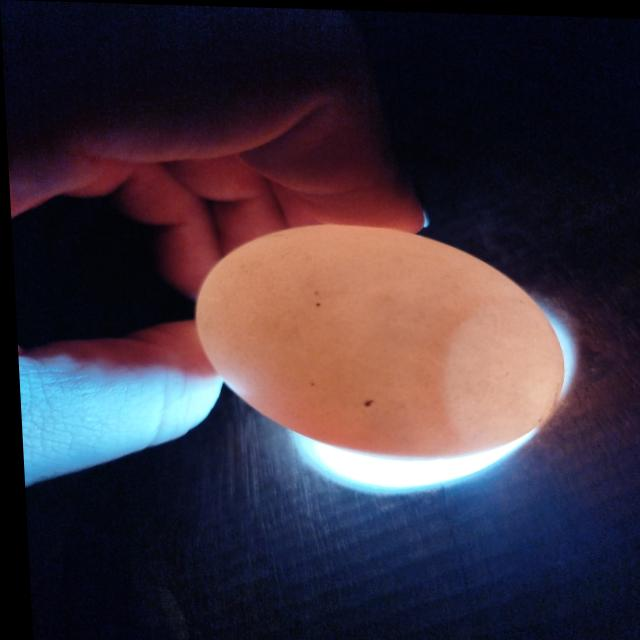Camara de Ar: (439, 302, 561, 450)
